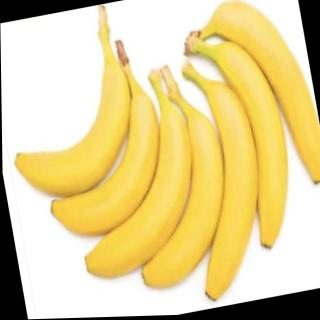banana: (58, 98, 210, 284), (167, 74, 281, 308), (114, 106, 243, 296), (32, 87, 176, 247), (208, 0, 320, 201), (1, 55, 145, 206), (211, 35, 304, 257)
